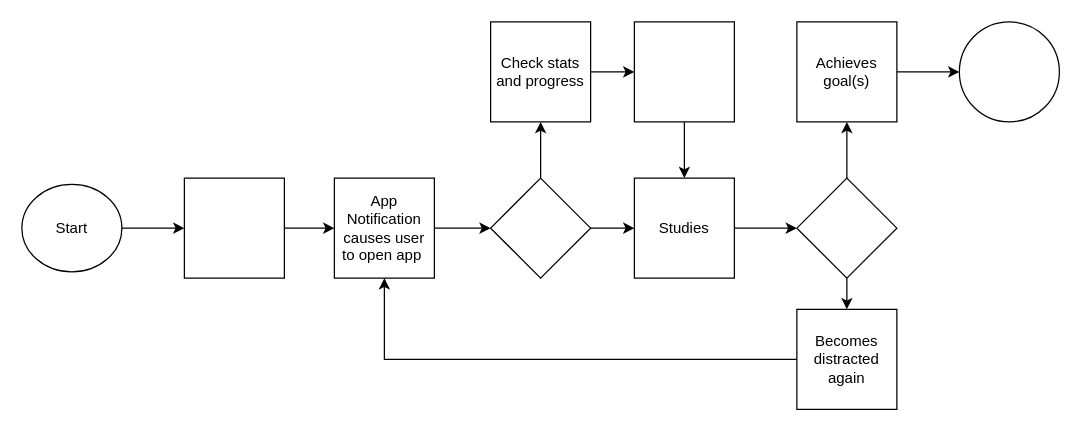
The diagram is 1081 pixels wide and 431 high, and some of its shapes have lost their labels. Each missing label, with the centre of its shape:
End: (1008,71)
Incentivised by (lack of) progress: (683,71)
Procrastinates Working: (233,227)
